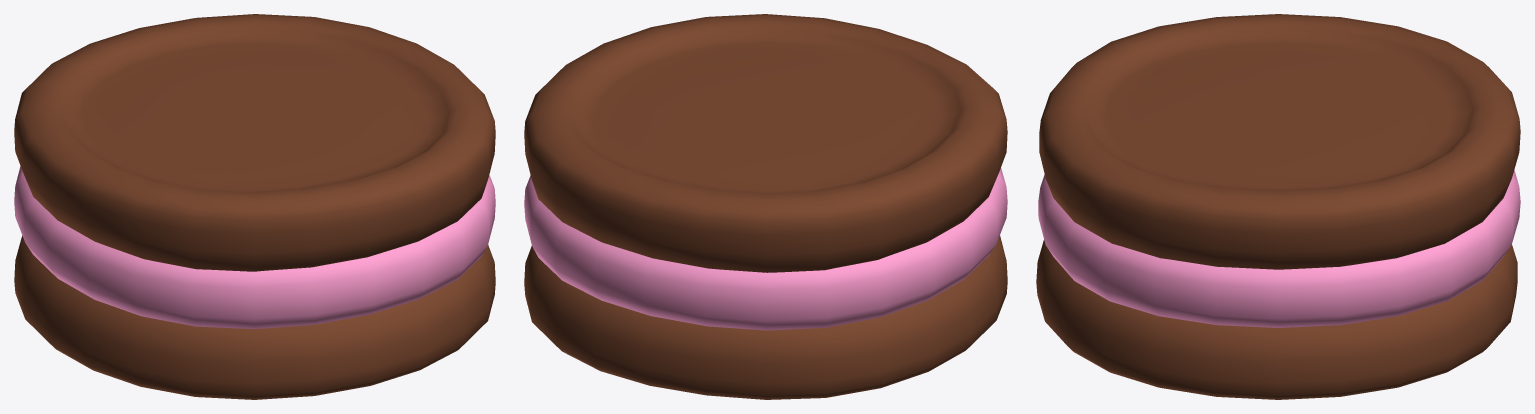
The model's file is Biscuit_02.fbx.
3 views of the same model, side by side, from view 1: azimuth 30°, elevation 25°; view 2: azimuth 150°, elevation 25°; view 3: azimuth 270°, elevation 25° (orthographic).
Parts seen in each view (by area): view 1: Biscuit_02_LOD0; view 2: Biscuit_02_LOD0; view 3: Biscuit_02_LOD0.
Part boxes in pixels (left/top/right/bottom): Biscuit_02_LOD0: left=14, top=14, right=495, bottom=399; Biscuit_02_LOD0: left=524, top=14, right=1007, bottom=399; Biscuit_02_LOD0: left=1036, top=14, right=1520, bottom=399.
Size of what is drawn, in the model's own units: 443 by 206 by 448.
